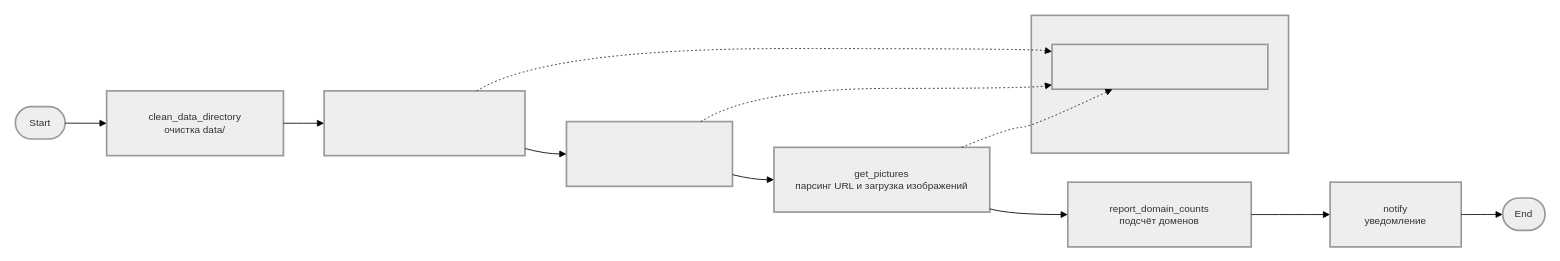
The diagram is 1560 pixels wide and 261 high, and some of its shapes have lost their labels. Here are the shapes that lost their labels. From the top down, the box of each, then its label:
(1051, 43, 1268, 90): Логирование в error_log.txt
(323, 90, 525, 156): check_server_availability HEAD-запрос к API
(565, 120, 733, 187): download_launches скачивание JSON
